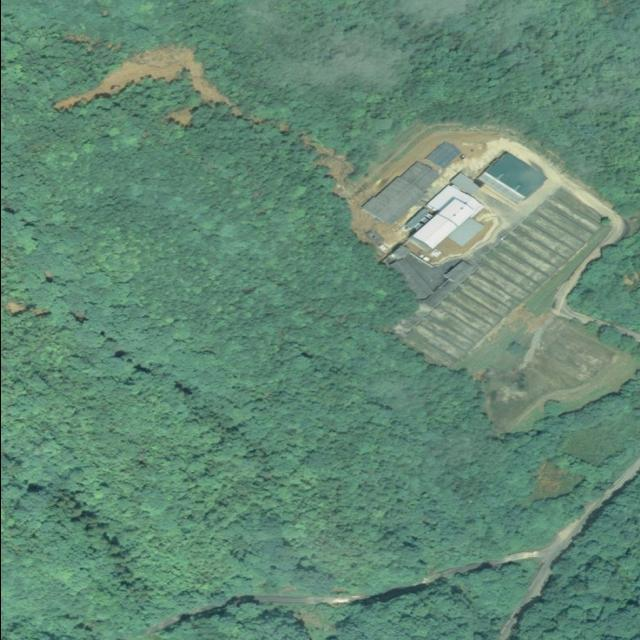landslide: (53, 45, 240, 114)
